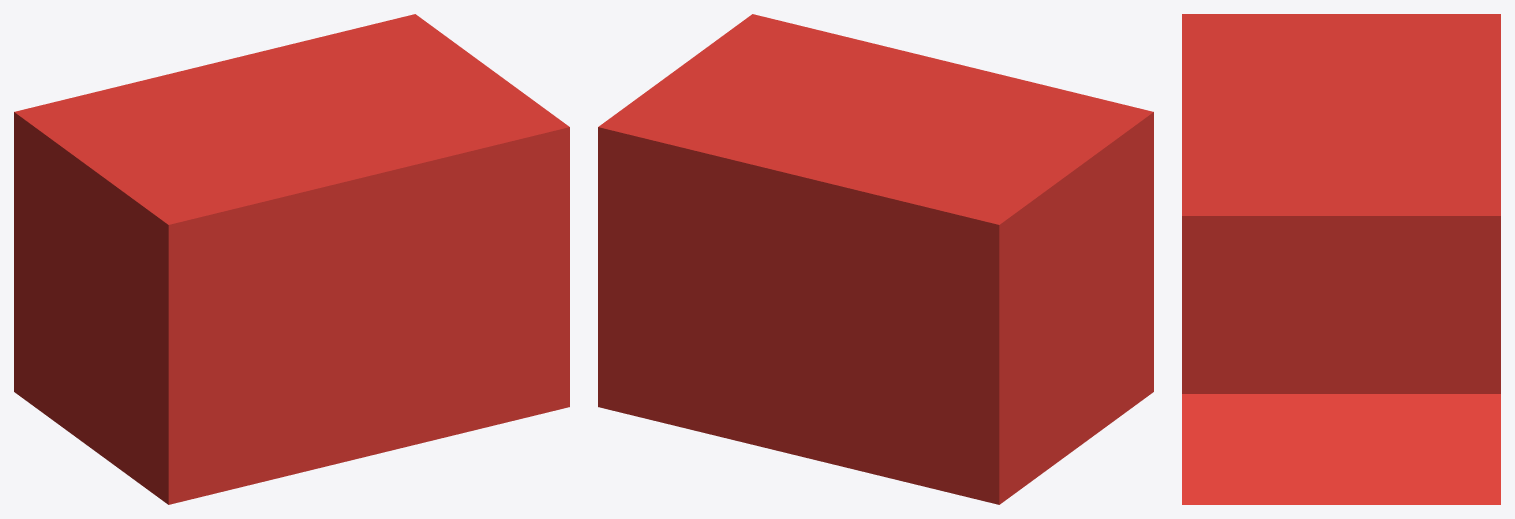
File: fragmented_block.glb
The picture shows the model from 3 angles, left to right: view 1: azimuth 30°, elevation 25°; view 2: azimuth 150°, elevation 25°; view 3: azimuth 270°, elevation 25°; orthographic projection. The views are drawn at different scales.
Visible parts, largest first — view 1: blockL-ColVis.005, blockL-ColVis.006, blockL-ColVis.004, blockL-ColVis.007, blockL-ColVis.003, blockL-ColVis.008, blockL-ColVis.001, blockL-ColVis.002; view 2: blockL-ColVis.005, blockL-ColVis.006, blockL-ColVis.004, blockL-ColVis.007, blockL-ColVis.003, blockL-ColVis.008, blockL-ColVis.001, blockL-ColVis.002; view 3: blockL-ColVis.003, blockL-ColVis.005, blockL-ColVis.002, blockL-ColVis.004.
Part boxes in pixels (<box>): blockL-ColVis.005: <box>14,56,397,311</box>; blockL-ColVis.006: <box>14,112,354,379</box>; blockL-ColVis.004: <box>243,14,569,310</box>; blockL-ColVis.007: <box>14,267,354,504</box>; blockL-ColVis.003: <box>356,127,569,311</box>; blockL-ColVis.008: <box>169,312,385,504</box>; blockL-ColVis.001: <box>355,312,569,451</box>; blockL-ColVis.002: <box>356,299,569,406</box>; blockL-ColVis.005: <box>770,56,1153,311</box>; blockL-ColVis.006: <box>813,112,1153,379</box>; blockL-ColVis.004: <box>598,14,924,310</box>; blockL-ColVis.007: <box>813,267,1153,504</box>; blockL-ColVis.003: <box>598,127,811,311</box>; blockL-ColVis.008: <box>782,312,998,504</box>; blockL-ColVis.001: <box>598,312,812,451</box>; blockL-ColVis.002: <box>598,299,811,406</box>; blockL-ColVis.003: <box>1182,216,1500,393</box>; blockL-ColVis.005: <box>1182,14,1500,129</box>; blockL-ColVis.002: <box>1182,394,1500,504</box>; blockL-ColVis.004: <box>1182,129,1500,215</box>.
Bounding box in the file's own units: 3 × 2 × 2.
